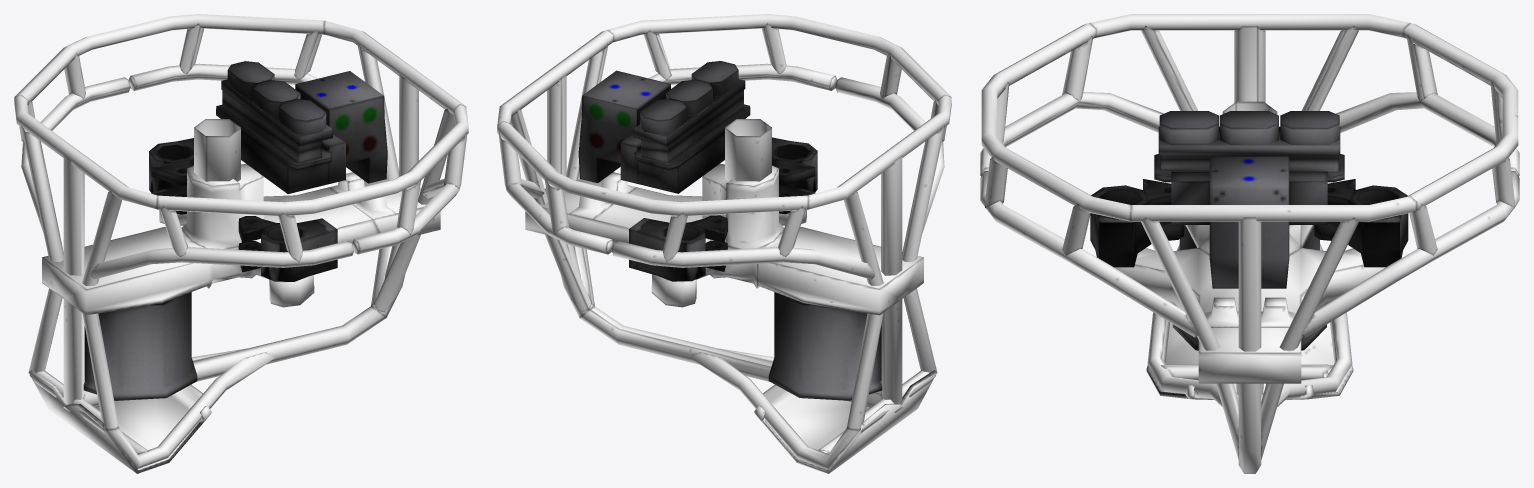
File: pelvis.dae
3 views of the same model, side by side, from view 1: azimuth 30°, elevation 25°; view 2: azimuth 150°, elevation 25°; view 3: azimuth 270°, elevation 25° (orthographic). The views are drawn at different scales.
Parts seen in each view (by area): view 1: pelvis; view 2: pelvis; view 3: pelvis.
Boxes of the visible parts, x1=… form: pelvis: x1=14, y1=14, x2=468, y2=473; pelvis: x1=497, y1=14, x2=951, y2=473; pelvis: x1=980, y1=14, x2=1519, y2=473.
Size of the model in its own units: 0.3298 by 0.3728 by 0.2739.
Materials: 1 (1 with a texture image).
